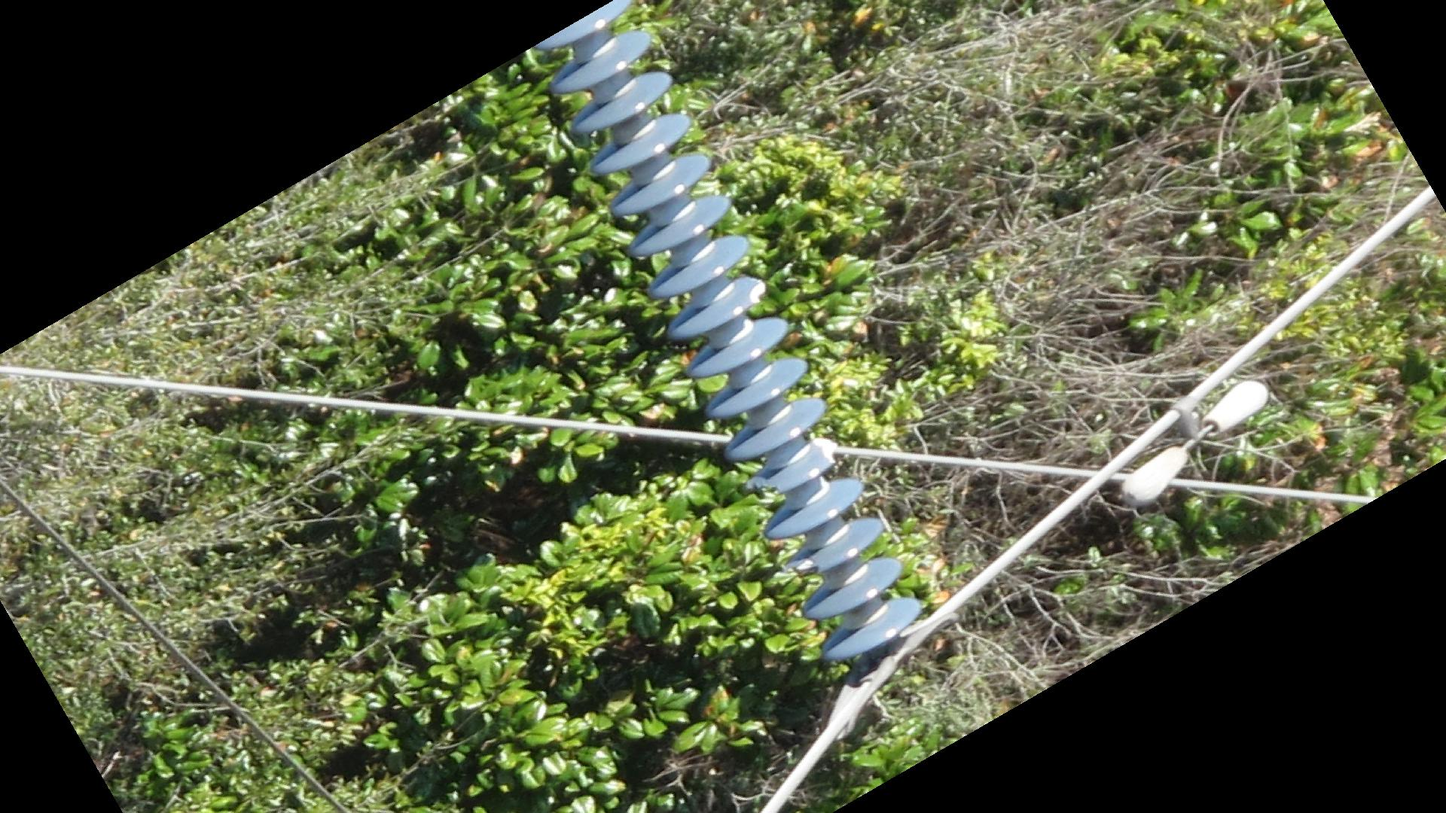insulator: (537, 1, 927, 666)
insulator_breakage: (808, 434, 843, 470), (741, 472, 786, 499), (776, 552, 823, 577), (740, 271, 770, 308)
